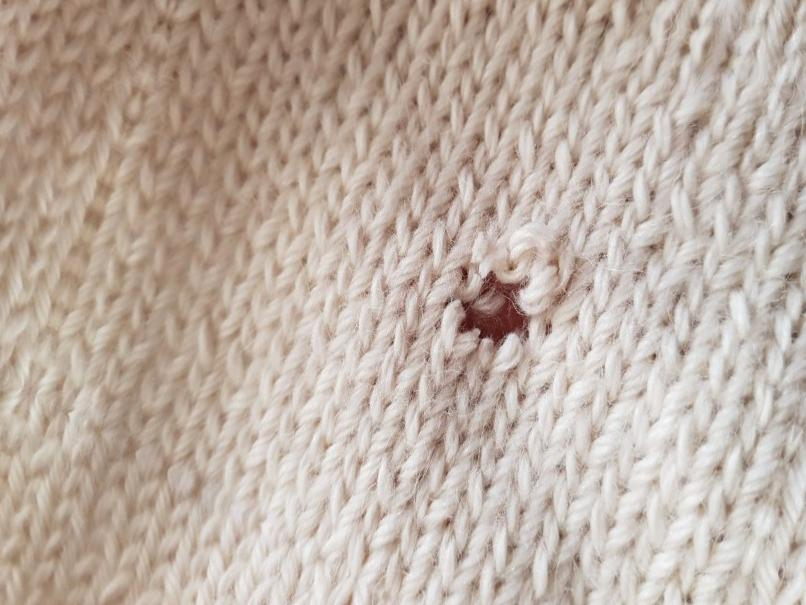hole: (430, 260, 558, 366)
